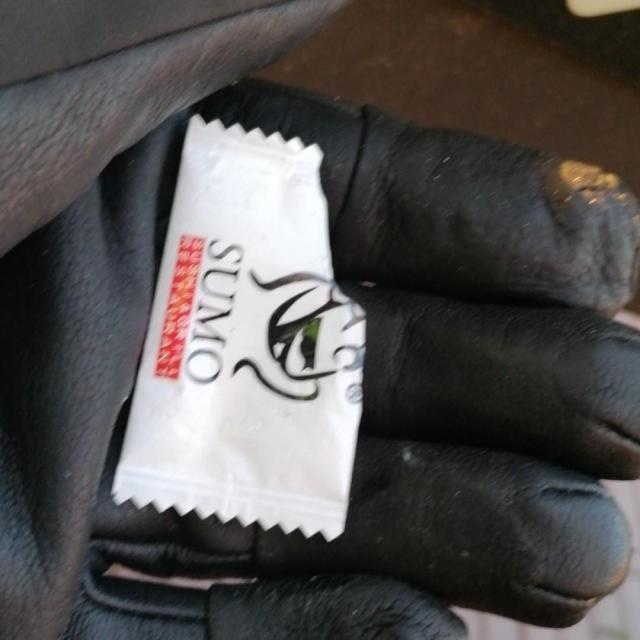Plastic: (106, 107, 372, 547)
